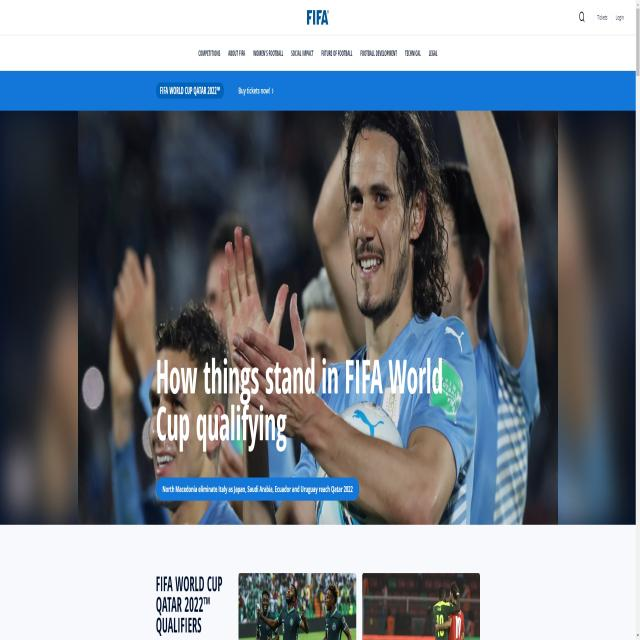menu-bar: (570, 5, 636, 36)
menu-panel: (238, 81, 290, 108)
tab-bar: (196, 41, 445, 68)
